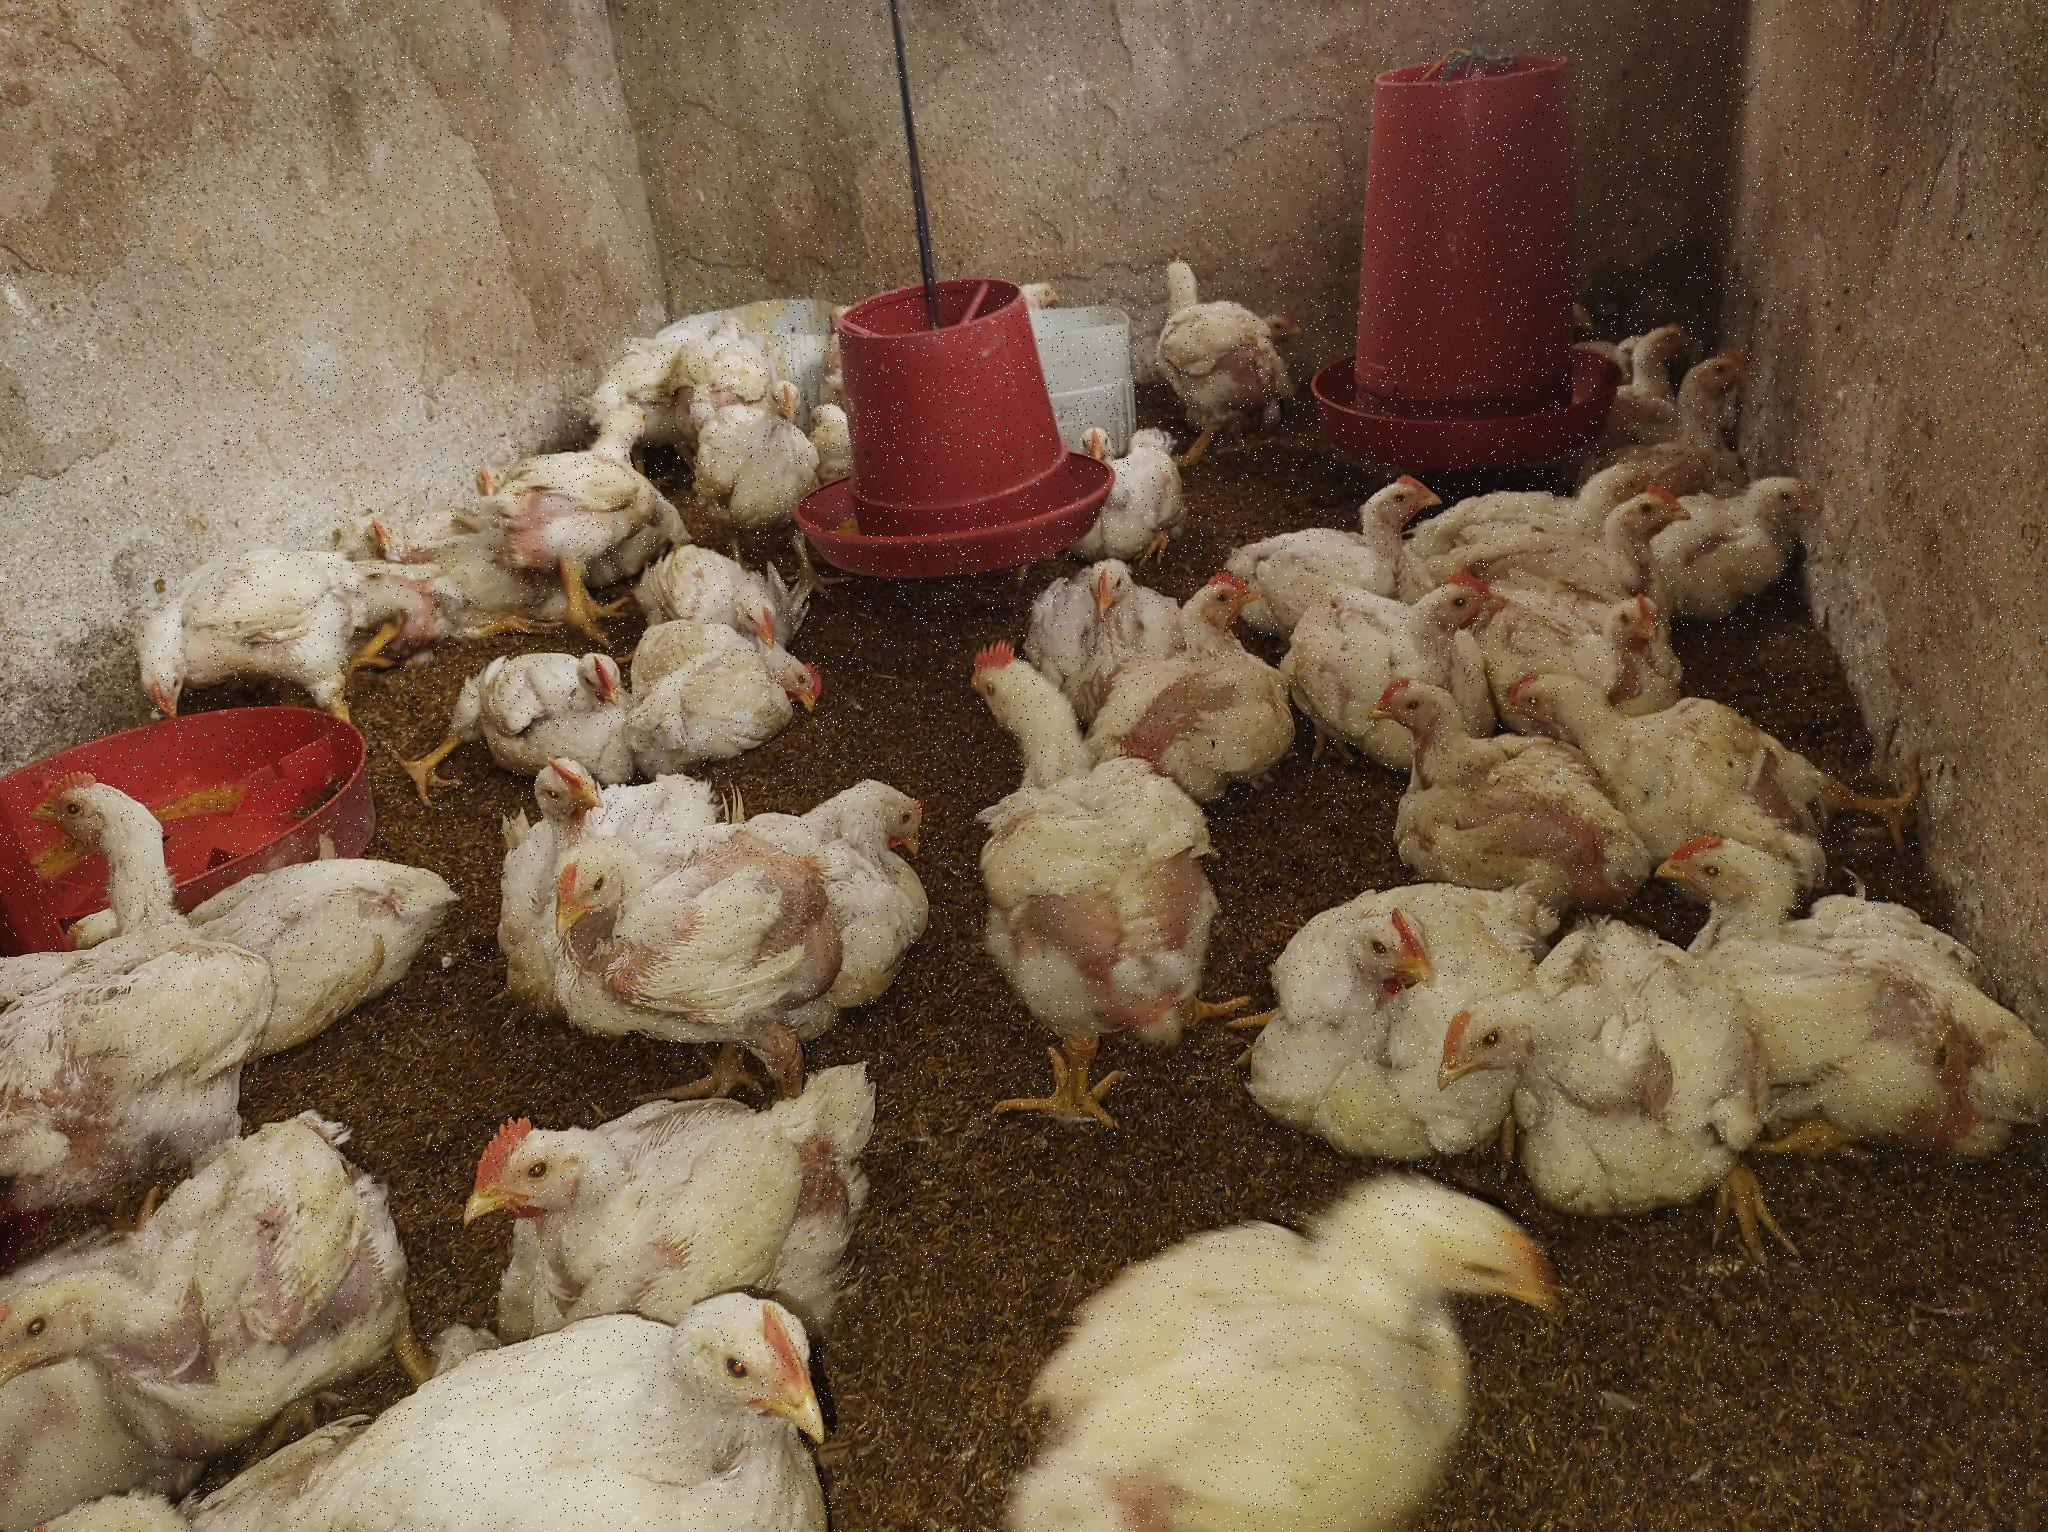Pollos: (988, 1191, 1562, 1532), (2, 1110, 407, 1452), (972, 637, 1248, 1130), (1435, 917, 1807, 1275), (293, 1291, 833, 1529), (1667, 830, 2048, 1152), (1519, 655, 1923, 911), (447, 1077, 864, 1321), (1260, 882, 1569, 1176), (6, 780, 256, 1101), (1364, 682, 1647, 920), (68, 848, 442, 1006), (561, 851, 829, 1046), (1092, 578, 1298, 793), (491, 756, 722, 932), (132, 554, 364, 724), (491, 410, 679, 620), (1232, 467, 1437, 626), (820, 734, 940, 978), (631, 621, 825, 766), (1145, 254, 1276, 447), (449, 652, 635, 776), (1018, 558, 1182, 694), (1691, 452, 1837, 603), (1322, 571, 1498, 681), (631, 546, 806, 649), (1495, 584, 1676, 681), (1076, 415, 1200, 557), (698, 375, 808, 525), (412, 539, 550, 642), (1586, 497, 1704, 591), (1675, 344, 1766, 452), (674, 320, 763, 401), (1572, 451, 1659, 520), (1635, 327, 1694, 422), (817, 303, 862, 389), (808, 394, 854, 478), (351, 510, 413, 571), (1252, 314, 1326, 344), (1022, 269, 1059, 319)
